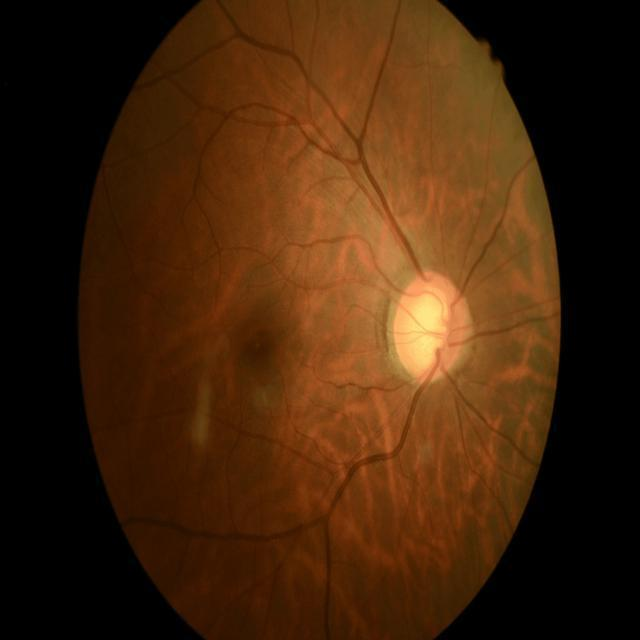cup: (414, 284, 453, 367)
disk: (394, 271, 467, 384)
